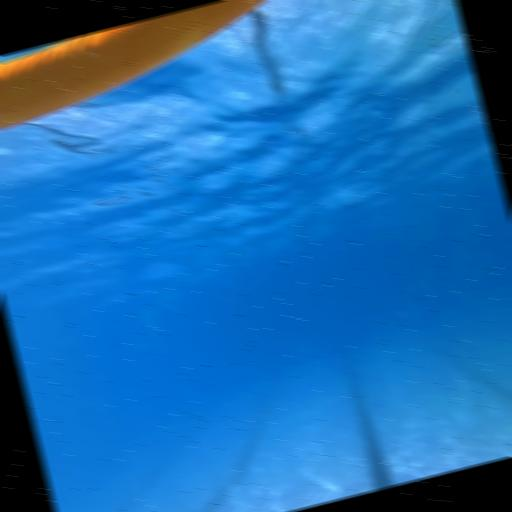upper_gate: (0, 0, 355, 141)
